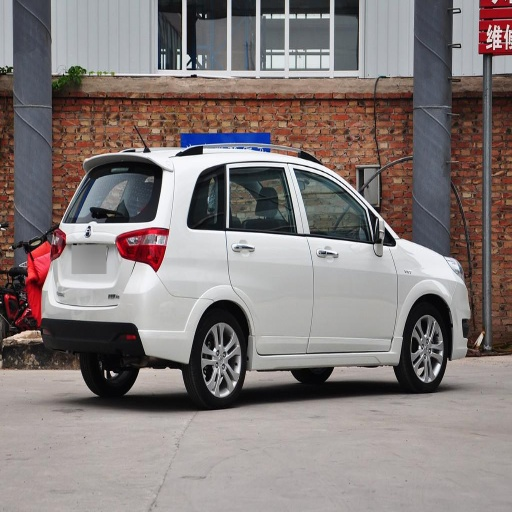back_bumper: (34, 262, 203, 360)
back_right_door: (227, 160, 313, 354)
front_right_door: (293, 161, 397, 349)
trunk: (49, 225, 149, 307)
